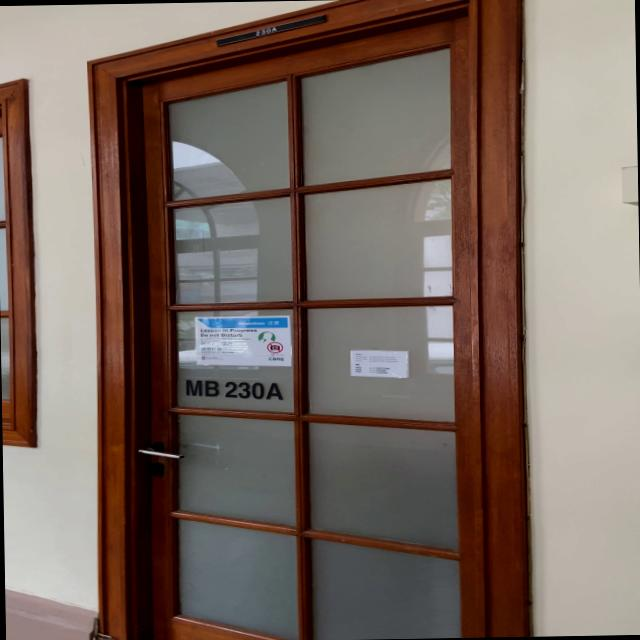room230A: (216, 14, 326, 45)
room230AWindow: (181, 375, 287, 403)
